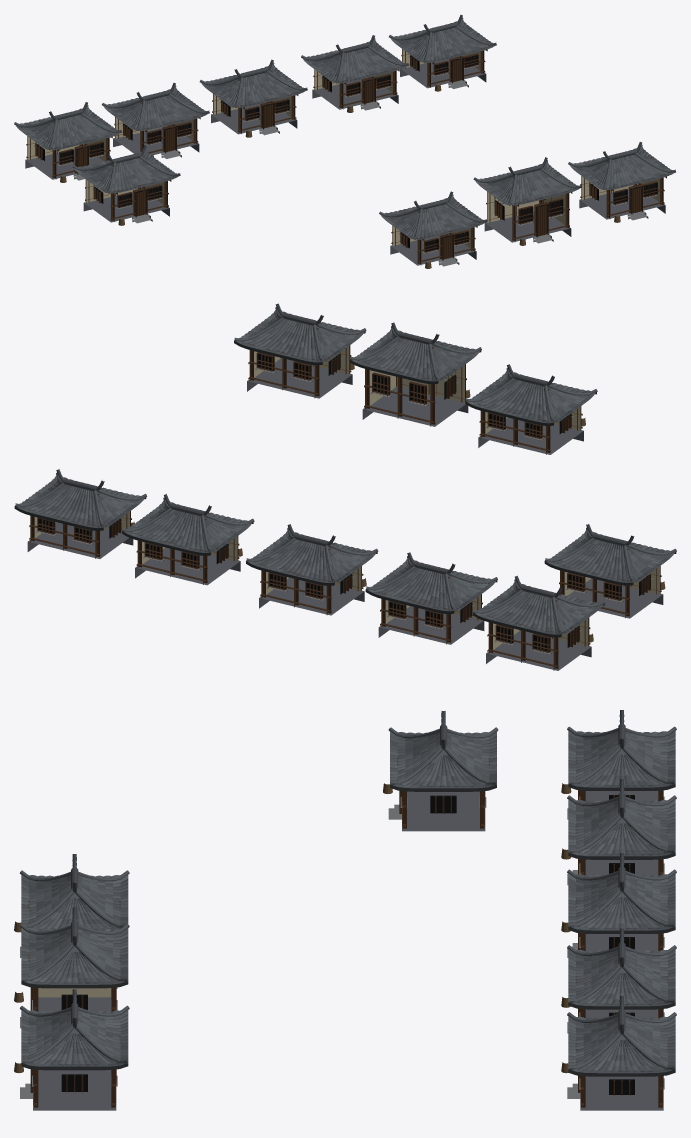
The model's file is RTS-C1-HOUSES-CLEAN-001-v1.glb.
The picture shows the model from 3 angles, top to bottom: view 1: azimuth 30°, elevation 25°; view 2: azimuth 150°, elevation 25°; view 3: azimuth 270°, elevation 25°; orthographic projection. The views are drawn at different scales.
Parts seen in each view (by area): view 1: TRB6-HOUSES-001-v8; view 2: TRB6-HOUSES-001-v8; view 3: TRB6-HOUSES-001-v8.
Part boxes in pixels (x1,y1,x2,y2): TRB6-HOUSES-001-v8: [14, 15, 675, 268]; TRB6-HOUSES-001-v8: [14, 303, 676, 670]; TRB6-HOUSES-001-v8: [14, 710, 676, 1110].
Size of the model in its own units: 13.31 by 2.06 by 11.15.
